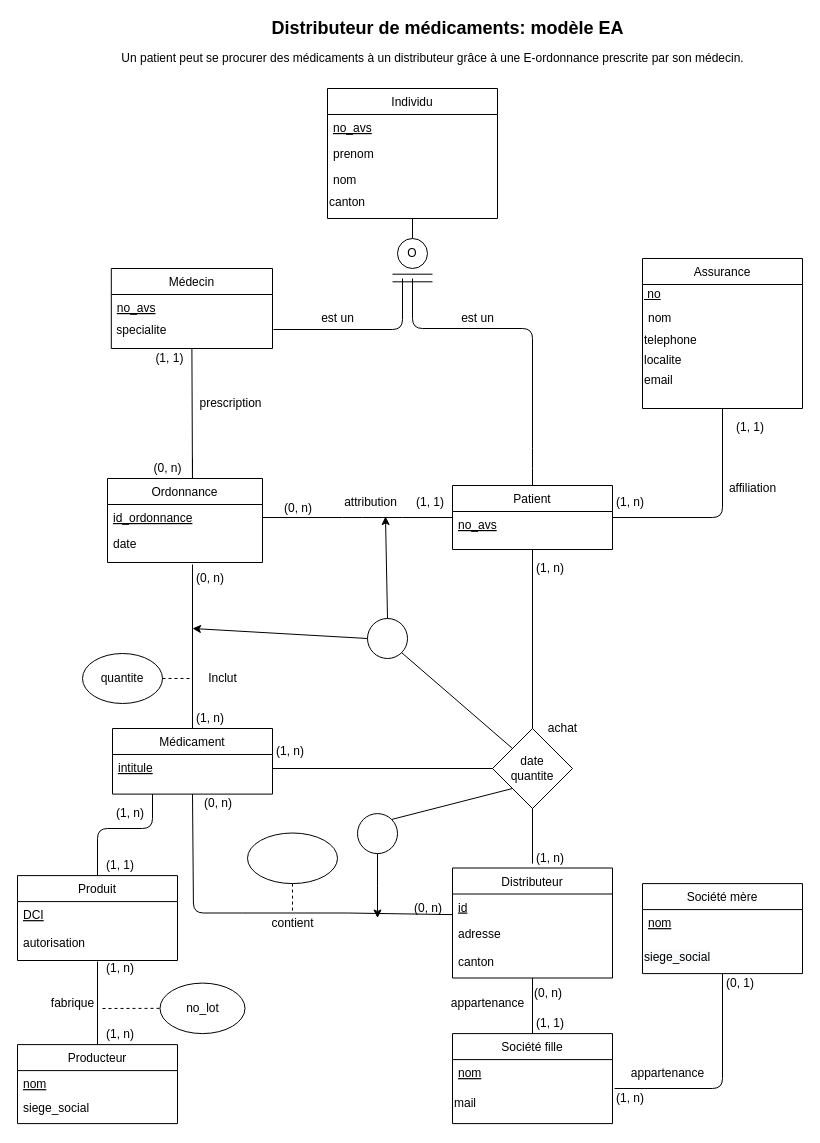
Some shapes in this 820 by 1143 pixel diagram are drawn without their labels. Each missing label, with the centre of its shape:
"I (n°1)" goes at (387,638).
"I (n°2)" goes at (377,833).
"prix quantite" goes at (292,858).
